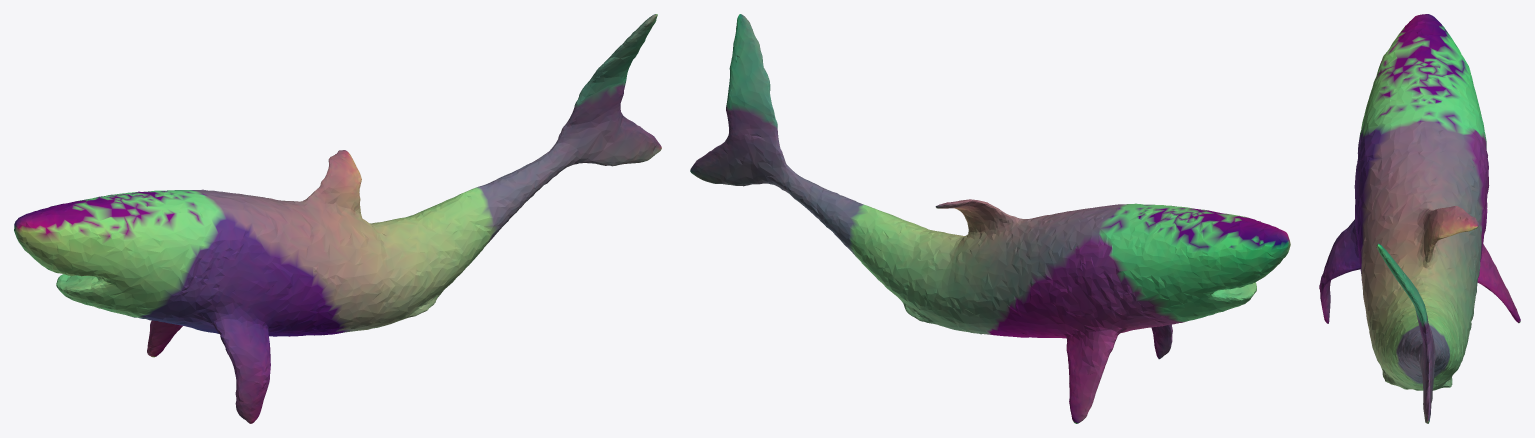
File: shark-19.off.obj
3 views of the same model, side by side, from view 1: azimuth 30°, elevation 25°; view 2: azimuth 150°, elevation 25°; view 3: azimuth 270°, elevation 25° (orthographic). The views are drawn at different scales.
Size of the model in its own units: 1.5 by 0.6377 by 0.3955.
